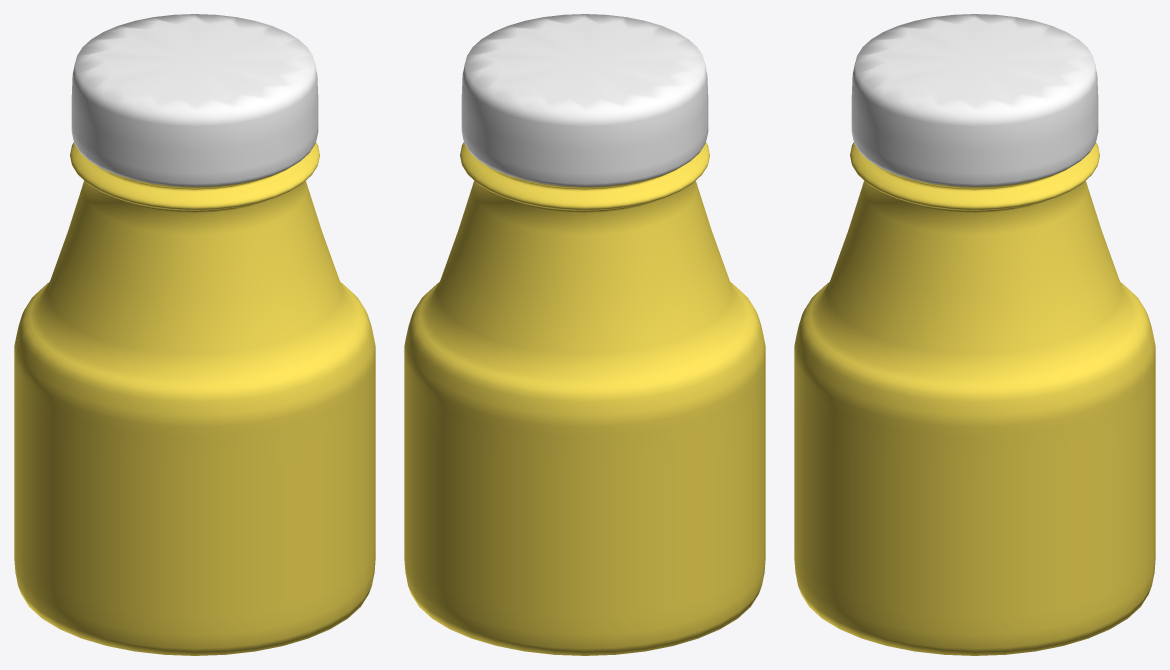
Rendered from Mustard Bottle.FBX.
3 renders of one model, left to right at view 1: azimuth 30°, elevation 25°; view 2: azimuth 150°, elevation 25°; view 3: azimuth 270°, elevation 25°, orthographic.
Visible parts, largest first — view 1: Cylinder001; view 2: Cylinder001; view 3: Cylinder001.
Part boxes in pixels (x1=…): Cylinder001: x1=14, y1=14, x2=375, y2=655; Cylinder001: x1=404, y1=14, x2=765, y2=655; Cylinder001: x1=794, y1=14, x2=1155, y2=655.
Bounding box in the file's own units: 35.48 × 35.48 × 57.02.
Materials: 1 (1 with a texture image).
